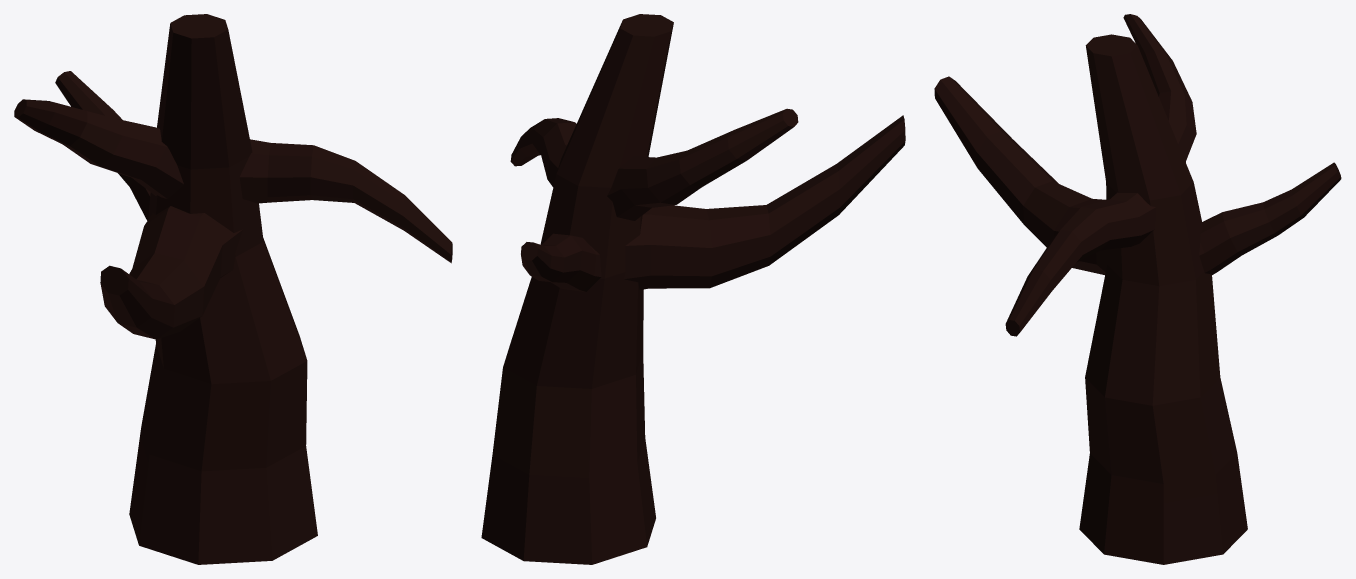
The model's file is TREE.fbx.
The picture shows the model from 3 angles, left to right: view 1: azimuth 30°, elevation 25°; view 2: azimuth 150°, elevation 25°; view 3: azimuth 270°, elevation 25°; orthographic projection. The views are drawn at different scales.
Parts seen in each view (by area): view 1: TREE; view 2: TREE; view 3: TREE.
Boxes of the visible parts, bbox=[...] form: TREE: bbox=[14, 14, 452, 564]; TREE: bbox=[481, 14, 905, 564]; TREE: bbox=[934, 14, 1341, 564].
Bounding box in the file's own units: 460 × 603 × 483.
